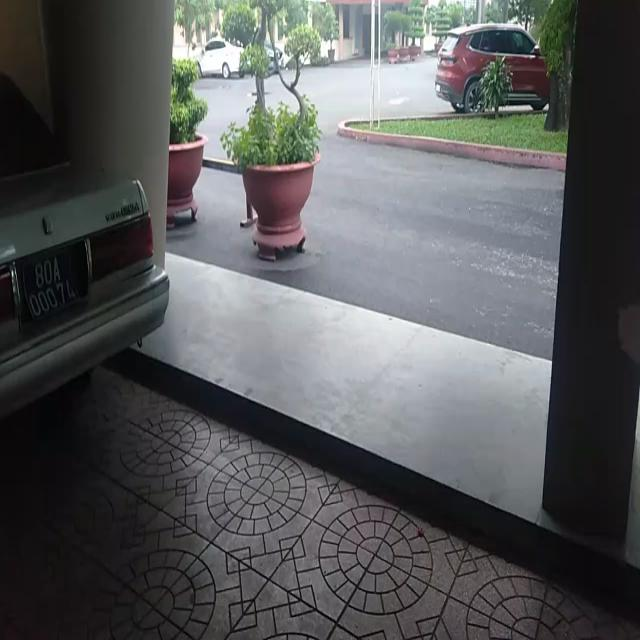bien_xanh: (13, 253, 86, 329)
